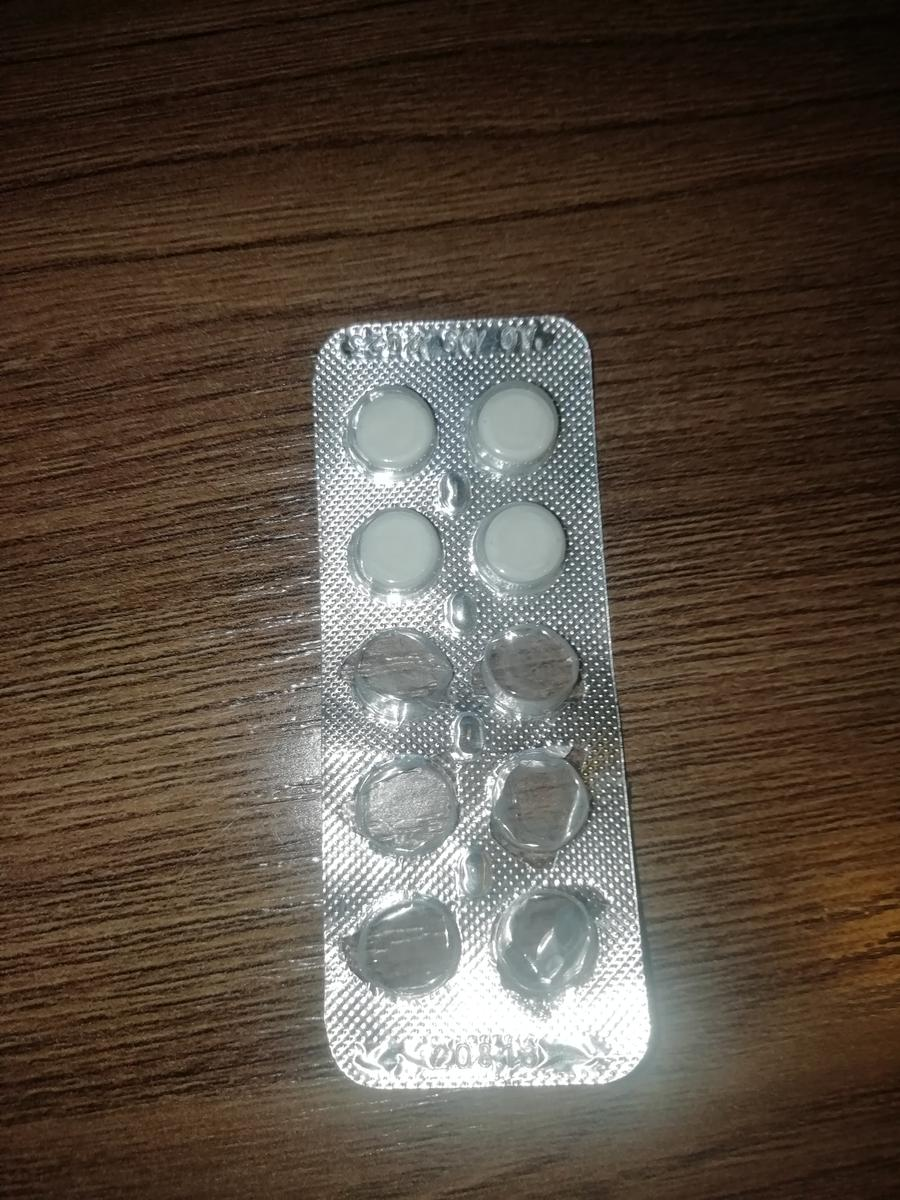tablet: (345, 369, 443, 477), (467, 367, 565, 475), (345, 490, 443, 598), (469, 498, 567, 606)
